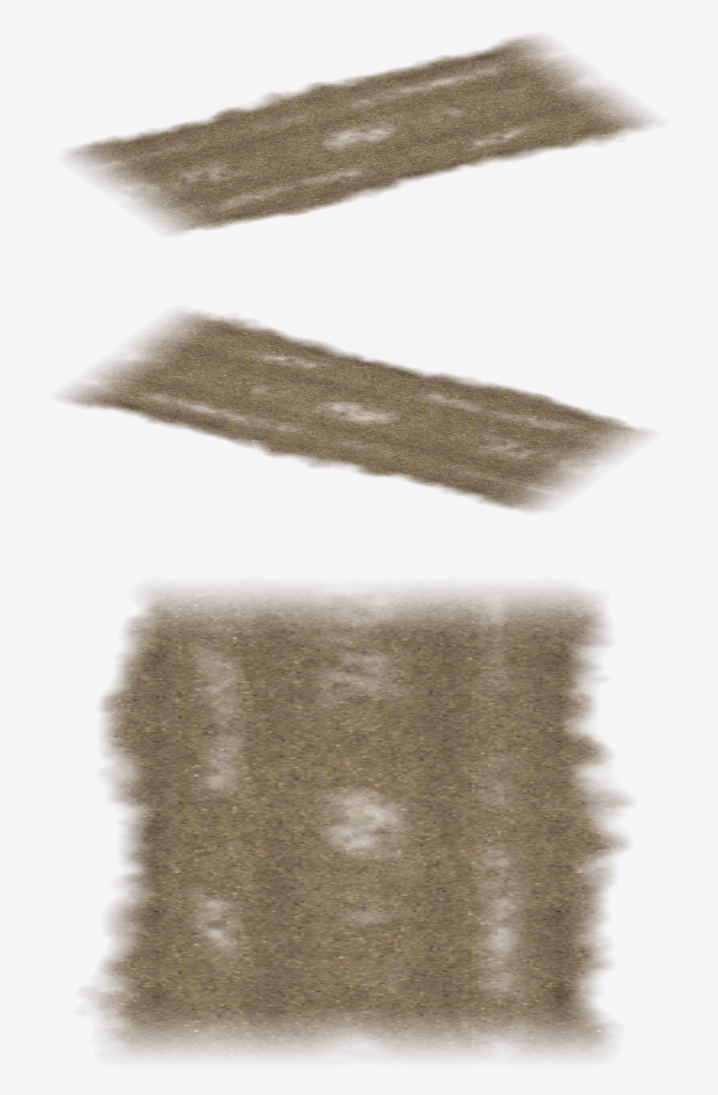
Rendered from road_line_street_street.glb.
3 views of the same model, one above another, from view 1: azimuth 30°, elevation 25°; view 2: azimuth 150°, elevation 25°; view 3: azimuth 270°, elevation 25° (orthographic). The views are drawn at different scales.
Visible parts, largest first — view 1: road_line_street_street; view 2: road_line_street_street; view 3: road_line_street_street.
Boxes of the visible parts, bbox=[...] form: road_line_street_street: bbox=[67, 35, 655, 233]; road_line_street_street: bbox=[60, 311, 650, 511]; road_line_street_street: bbox=[85, 588, 630, 1056].
Bounding box in the file's own units: 15.17 × 0 × 8.
Materials: 1 (1 with a texture image).
